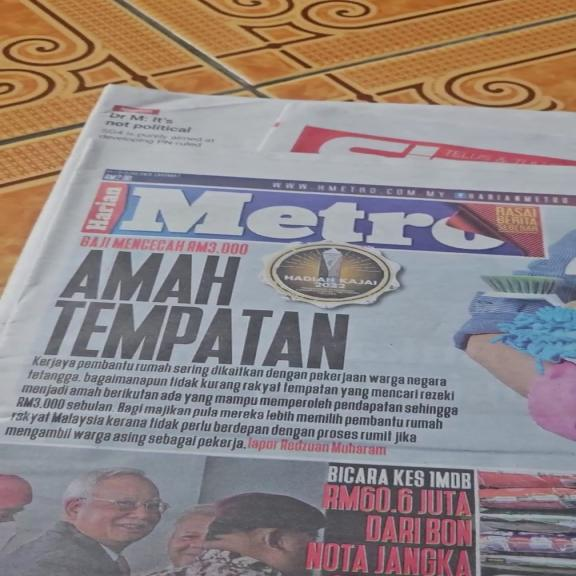Kertas: (1, 88, 565, 576)
